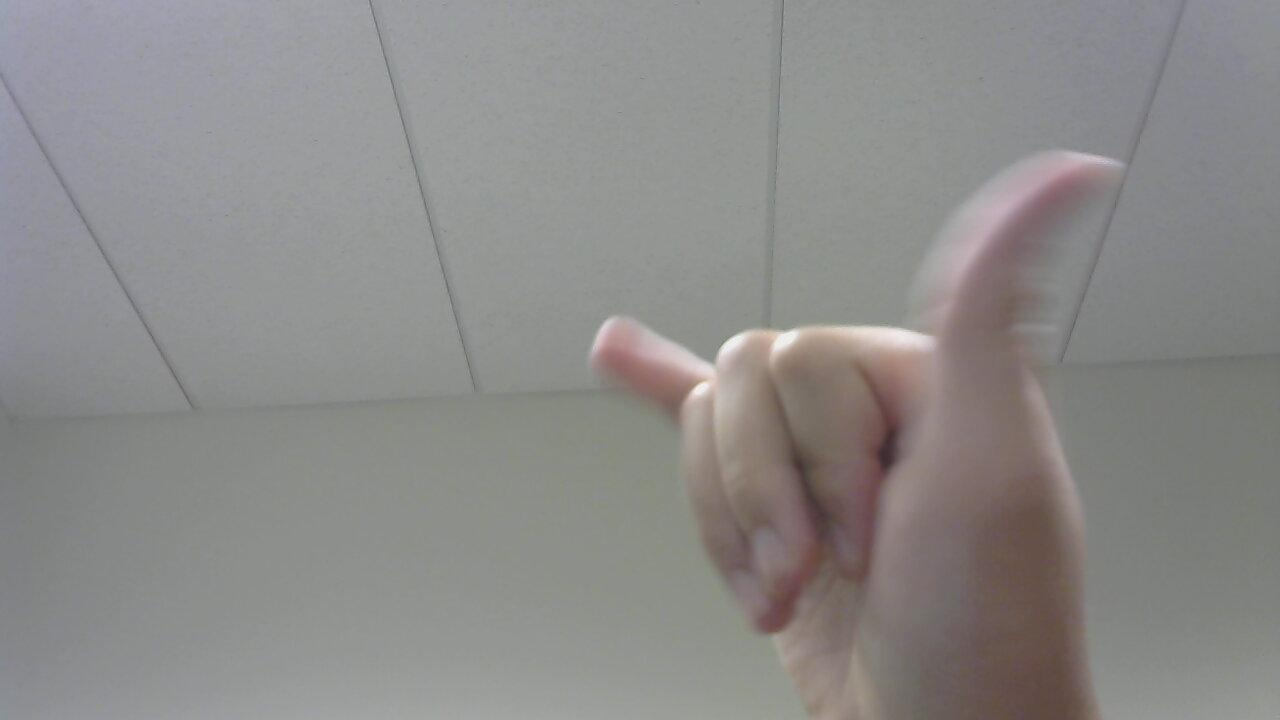hands: (568, 137, 1132, 720)
